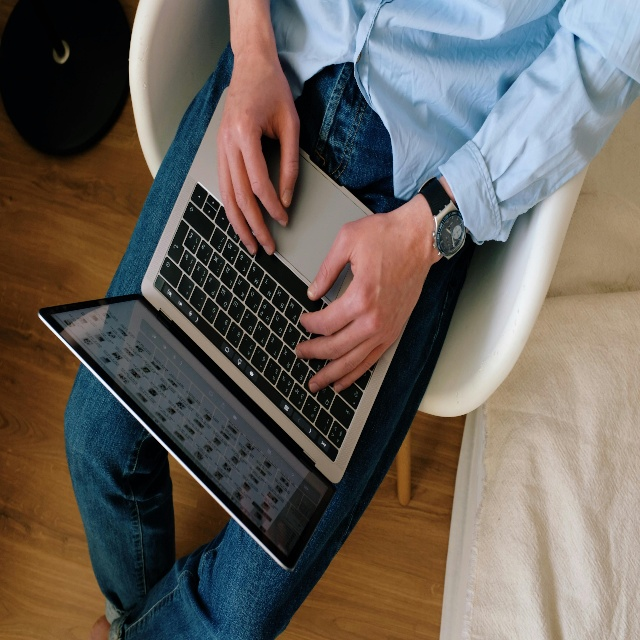Sin_guantes: (296, 207, 429, 393), (216, 46, 301, 257)
